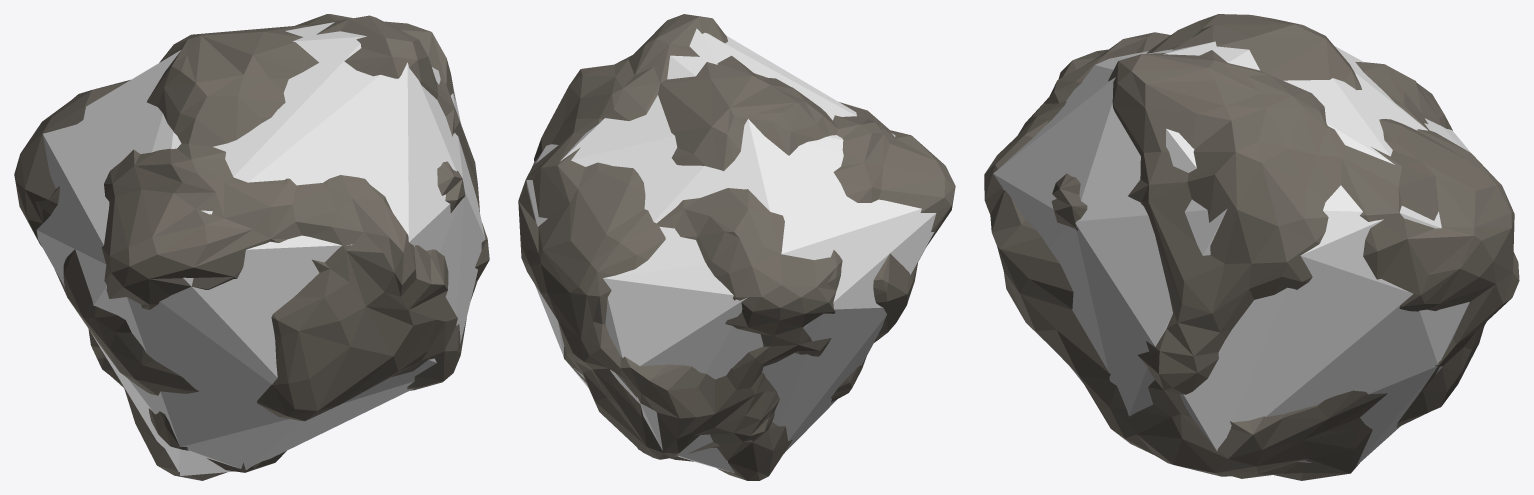
Rendered from SM_Env_Asteroid_Large_01.fbx.
3 renders of one model, left to right at view 1: azimuth 30°, elevation 25°; view 2: azimuth 150°, elevation 25°; view 3: azimuth 270°, elevation 25°, orthographic. The views are drawn at different scales.
Parts seen in each view (by area): view 1: SM_Env_Asteroid_Large_01_LOD0, SM_Env_Asteroid_Large_01_ConvexHulls; view 2: SM_Env_Asteroid_Large_01_LOD0, SM_Env_Asteroid_Large_01_ConvexHulls; view 3: SM_Env_Asteroid_Large_01_LOD0, SM_Env_Asteroid_Large_01_ConvexHulls.
Boxes of the visible parts, x1,y1,x2,y2 form: SM_Env_Asteroid_Large_01_LOD0: [14, 14, 489, 480]; SM_Env_Asteroid_Large_01_ConvexHulls: [36, 22, 485, 475]; SM_Env_Asteroid_Large_01_LOD0: [518, 14, 955, 480]; SM_Env_Asteroid_Large_01_ConvexHulls: [526, 28, 936, 473]; SM_Env_Asteroid_Large_01_LOD0: [984, 14, 1519, 480]; SM_Env_Asteroid_Large_01_ConvexHulls: [993, 41, 1470, 465].
Bounding box in the file's own units: 1740 × 1567 × 1702.
Materials: 1 (1 with a texture image).
